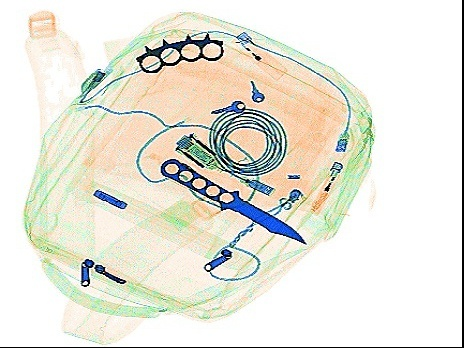knife: (157, 153, 308, 245)
lighter: (231, 31, 289, 81), (311, 159, 343, 212)
